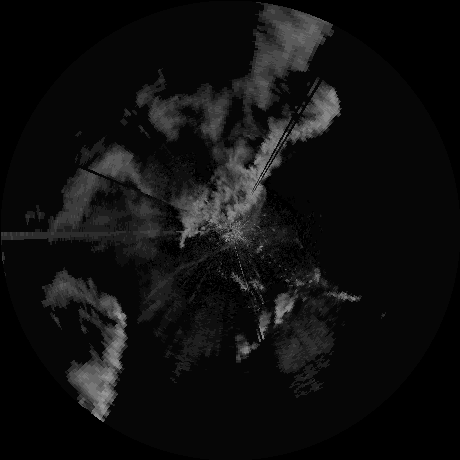frontgust: (184, 195, 267, 267)
